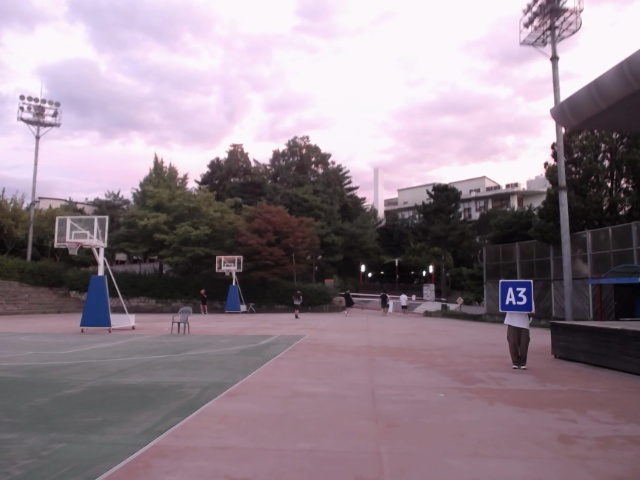delivery_a3: (499, 280, 533, 313)
